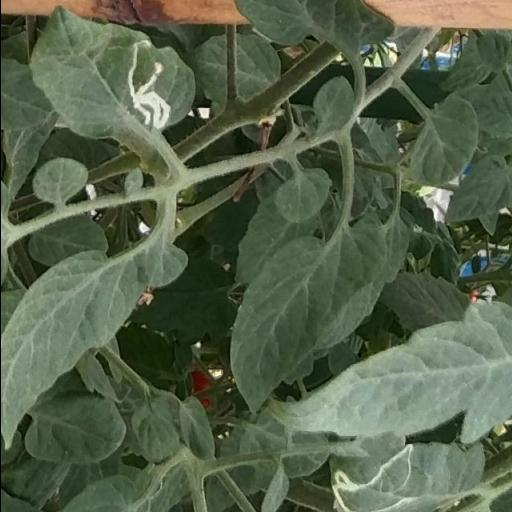disease_tomato: (27, 5, 197, 143), (328, 438, 490, 512)
